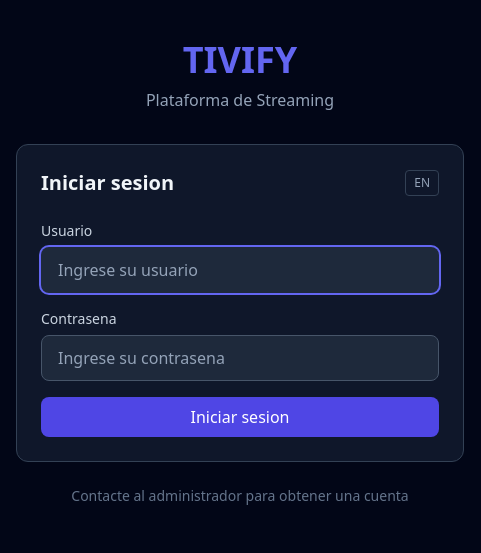
Test: LoginPage › shows connection error when no response
Type "admin" into the field labelled "Usuario". click: (240, 270)
box: x1=41 y1=247 x2=439 y2=293
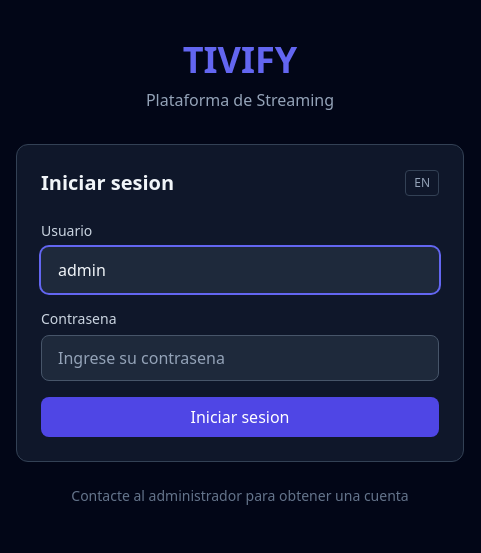
Type "pass123" into the password field labelled "Contrasena". click: (240, 358)
box: x1=41 y1=335 x2=439 y2=381
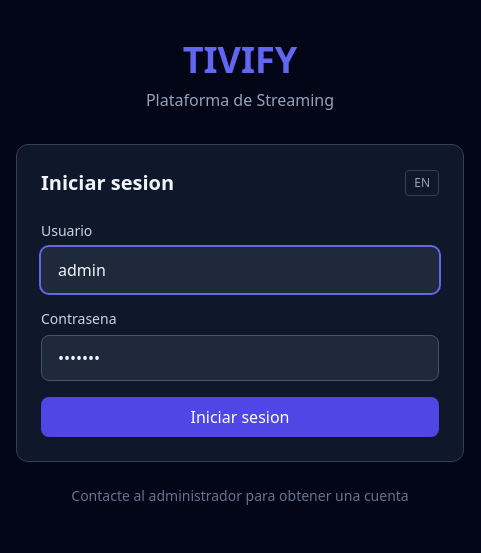
Click the button "Iniciar sesion". click: (240, 417)
box: x1=41 y1=397 x2=439 y2=437
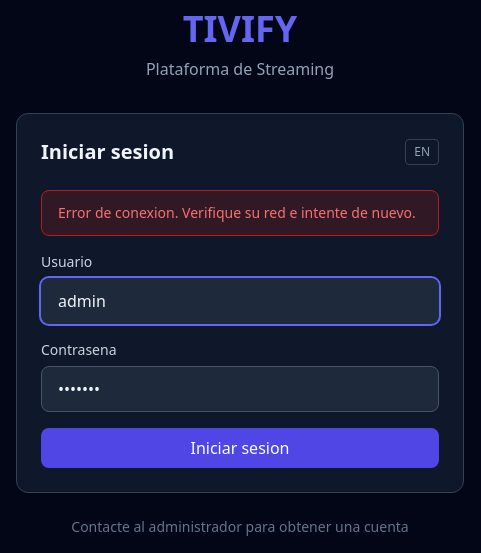
Now the text "Error de conexion. Verifique su red e intente de nuevo." is shown, box x1=41 y1=190 x2=439 y2=236
